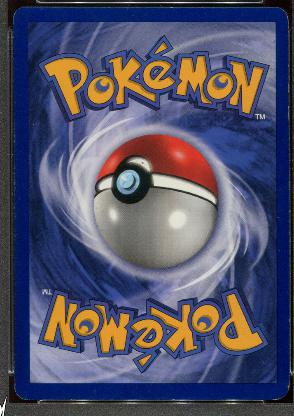Card: (10, 3, 290, 402)
Corner Wear: (13, 352, 30, 400), (269, 383, 289, 401)
Edge Wear: (276, 6, 288, 36), (13, 120, 15, 221), (285, 62, 288, 128), (286, 315, 288, 323), (287, 176, 288, 190), (287, 146, 288, 158)
Scratch: (266, 366, 275, 372), (259, 359, 266, 365), (137, 392, 142, 398)
